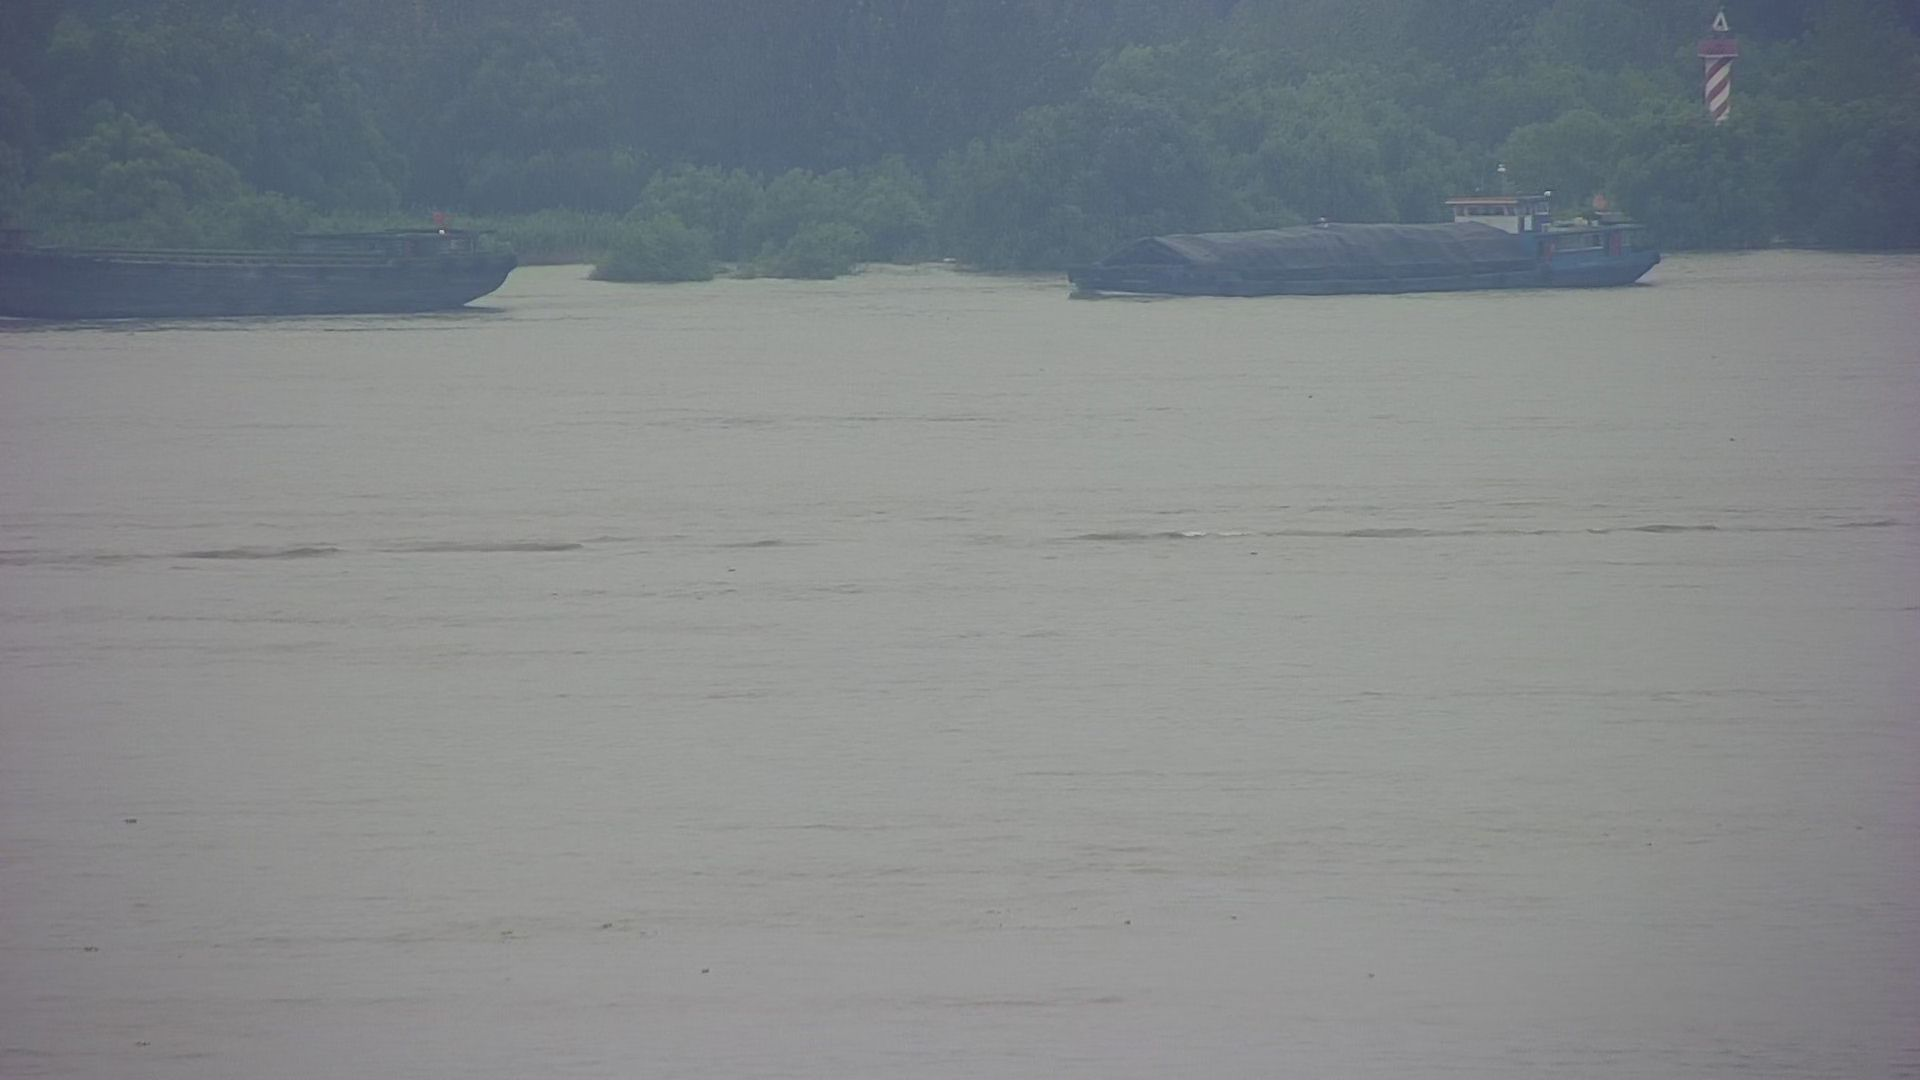ship: (1051, 142, 1687, 322), (1, 218, 535, 334)
